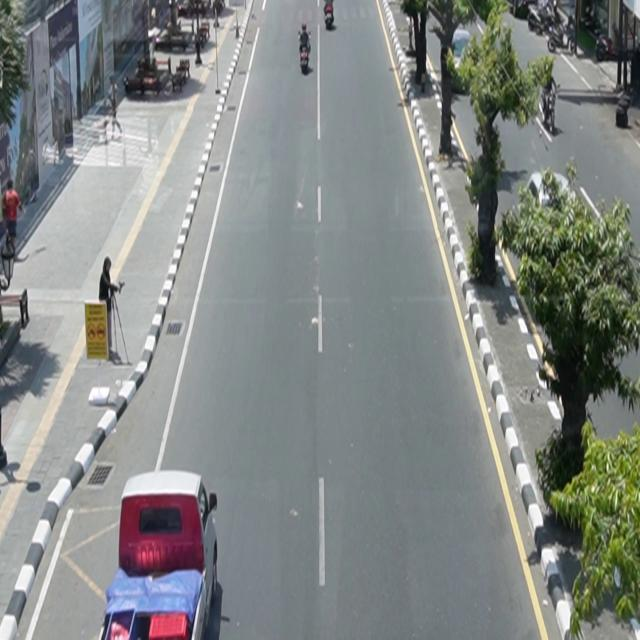car: (99, 470, 219, 640)
